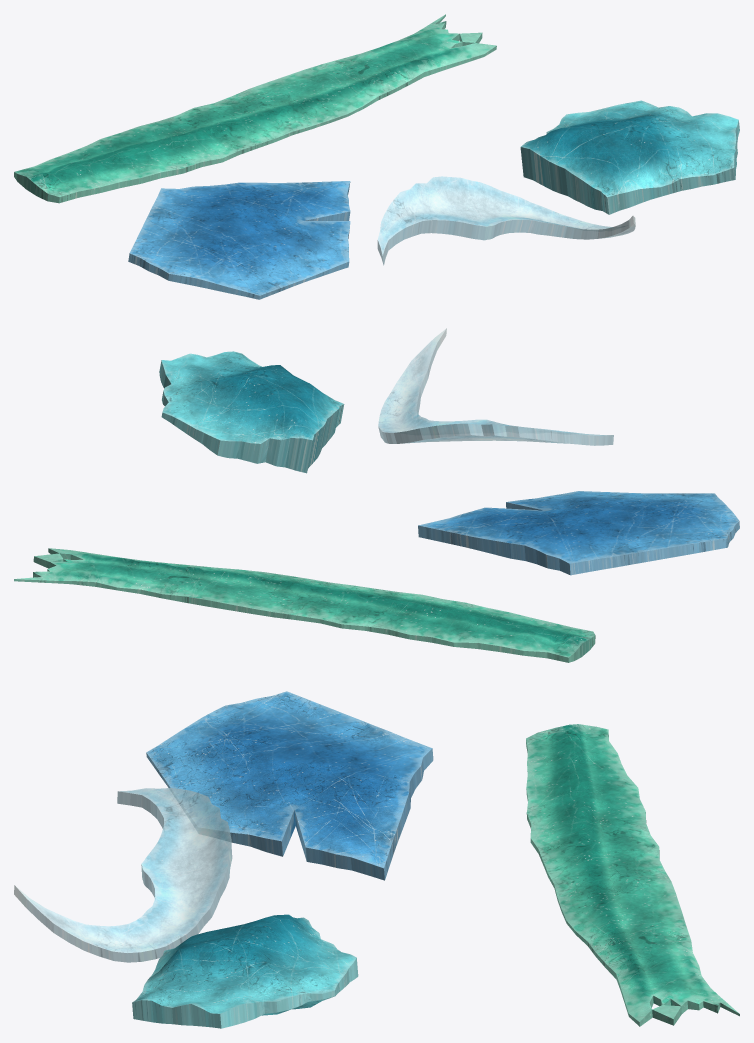
Rendered from fragmen.glb.
3 views of the same model, one above another, from view 1: azimuth 30°, elevation 25°; view 2: azimuth 150°, elevation 25°; view 3: azimuth 270°, elevation 25° (orthographic). The views are drawn at different scales.
Parts seen in each view (by area): view 1: fragmen; view 2: fragmen; view 3: fragmen.
Part boxes in pixels (x1,y1,x2,y2): fragmen: (14, 14, 739, 299); fragmen: (14, 328, 739, 662); fragmen: (14, 691, 739, 1028).
Bounding box in the file's own units: 0.309 × 0.0309 × 0.2799.
Materials: 4 (4 with a texture image).
